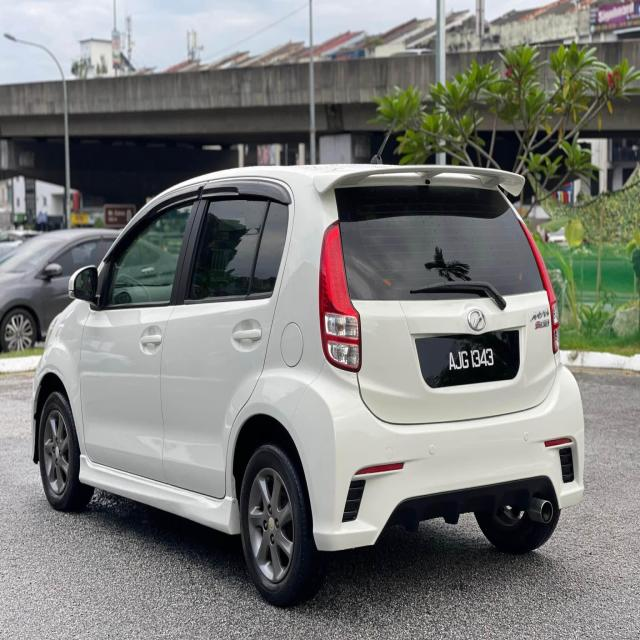PeroduaMyvi: (30, 160, 586, 608)
